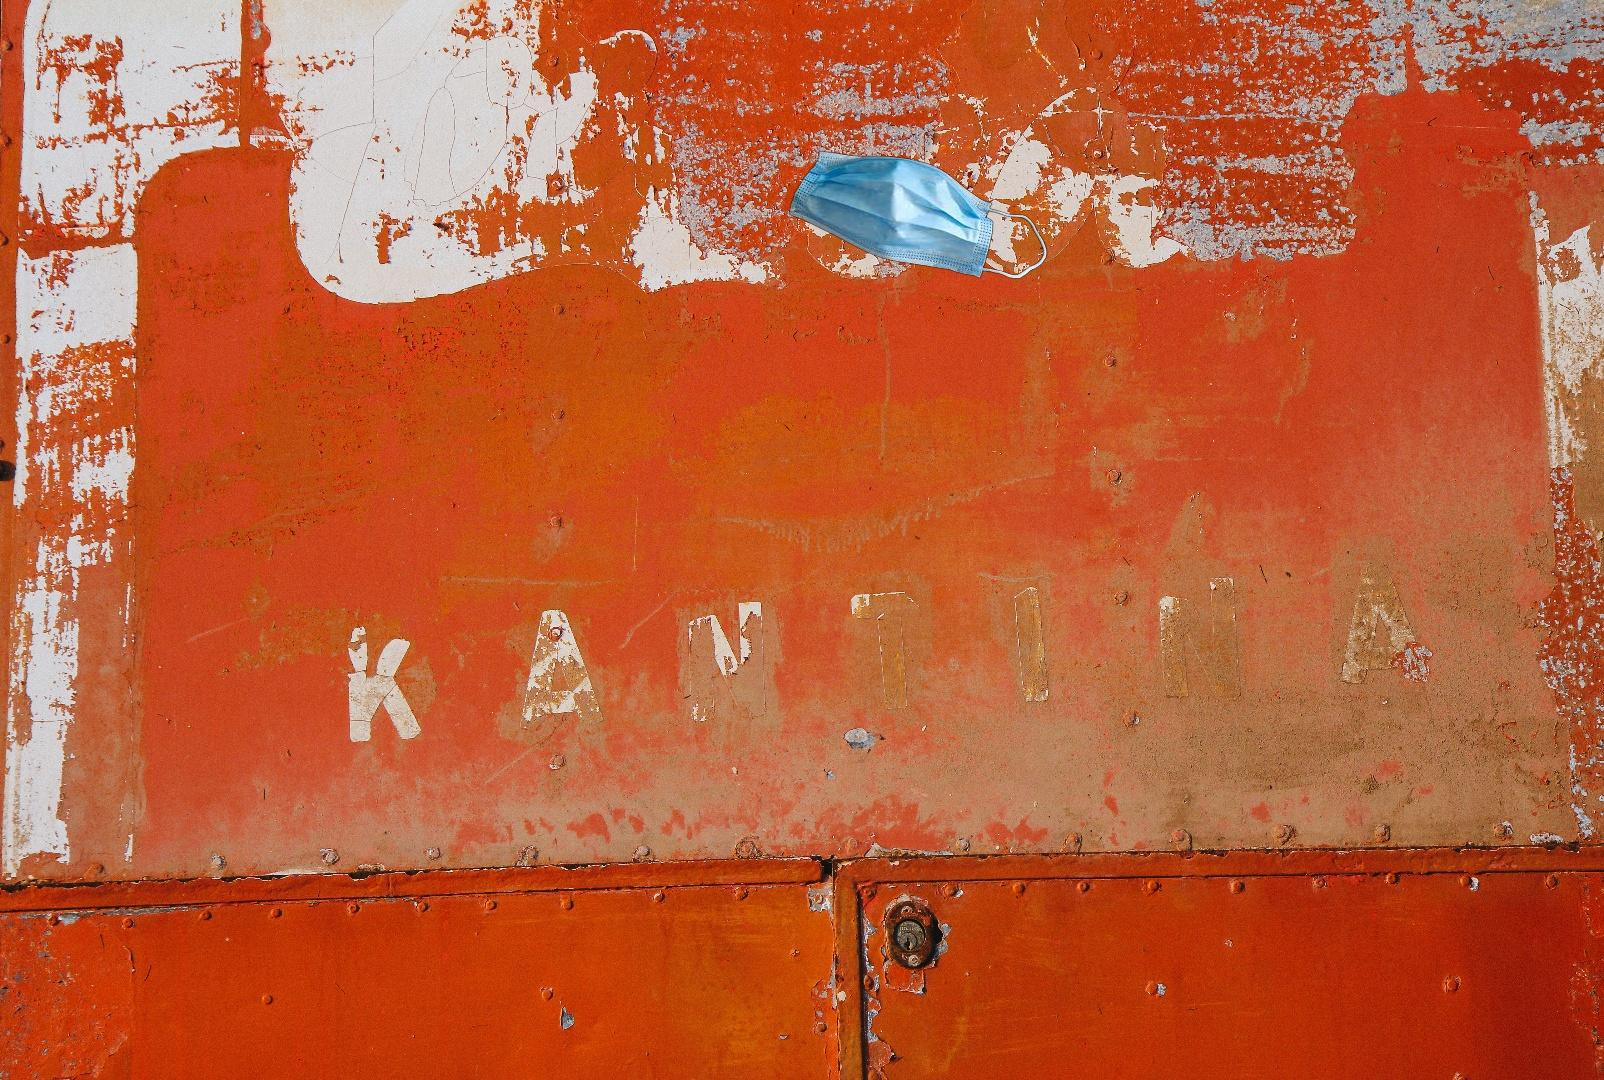trash: (750, 145, 1048, 282)
